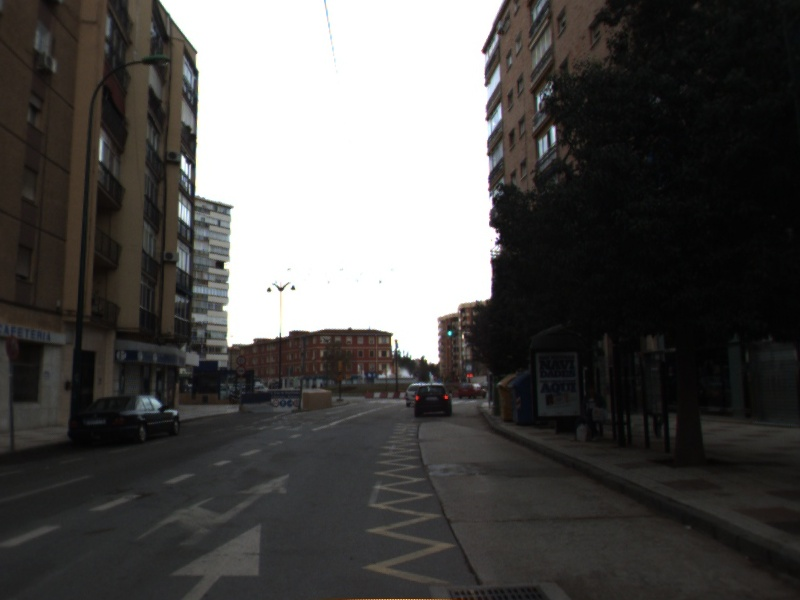STRAIGHT: (165, 520, 265, 600)
STRAIGHT_LEFT: (133, 470, 291, 552)
